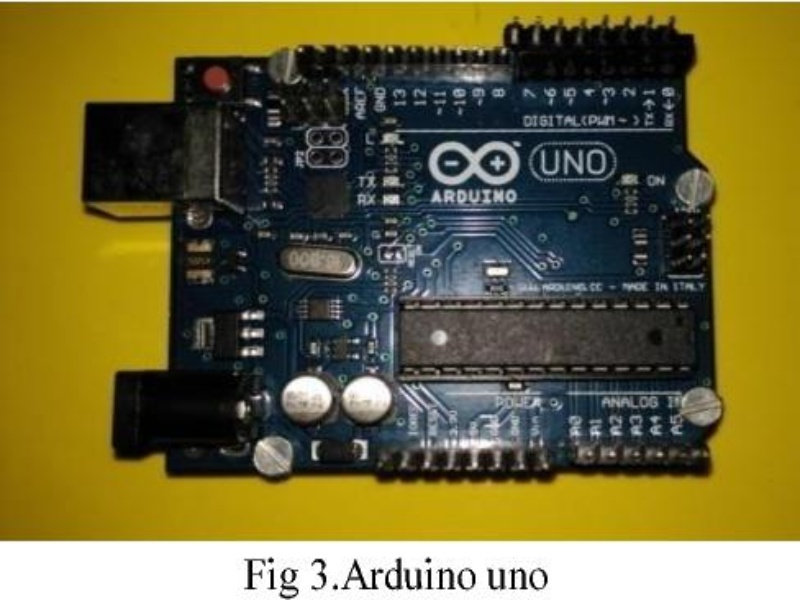uno: (92, 36, 743, 498)
